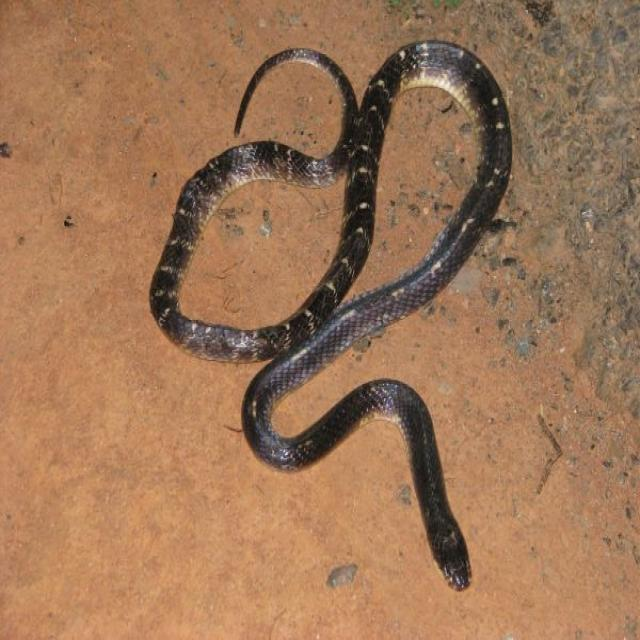Snake: (147, 37, 512, 592)
